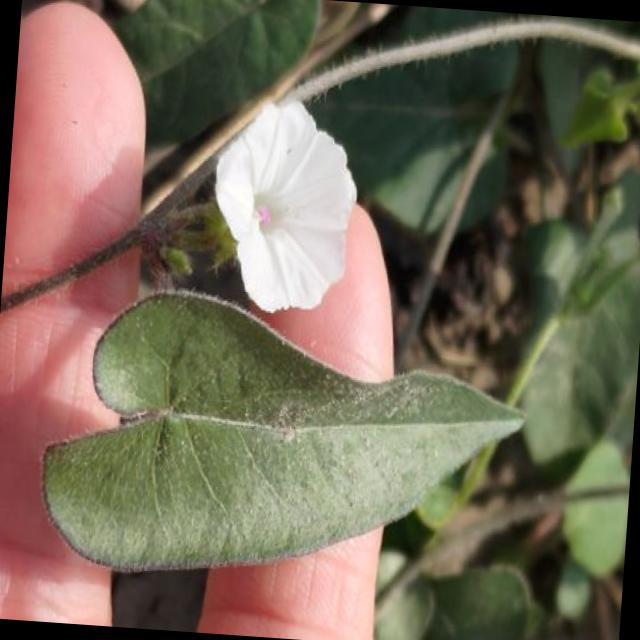ipomoea: (202, 91, 368, 323)
